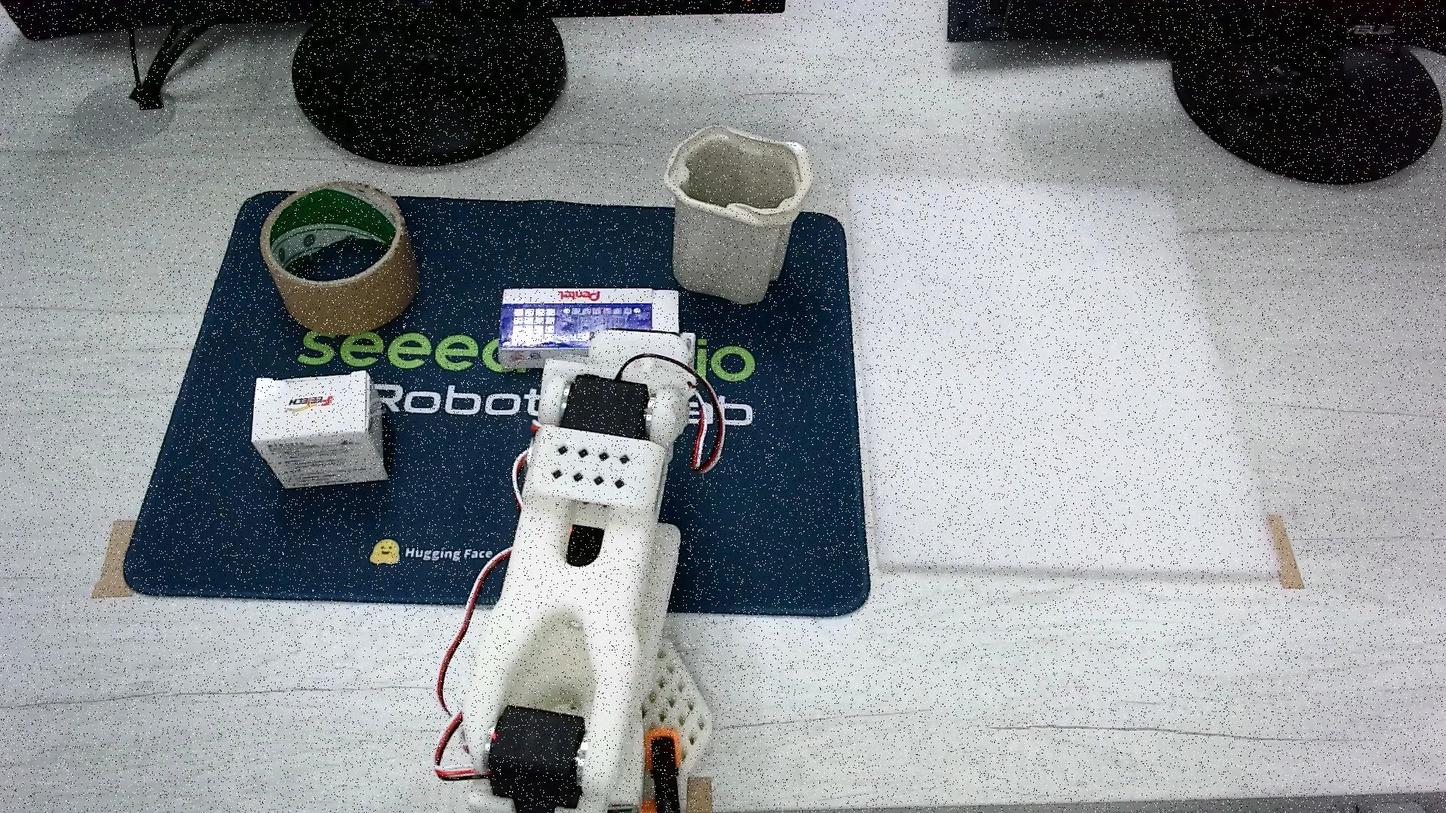eraser: (252, 371, 389, 488)
